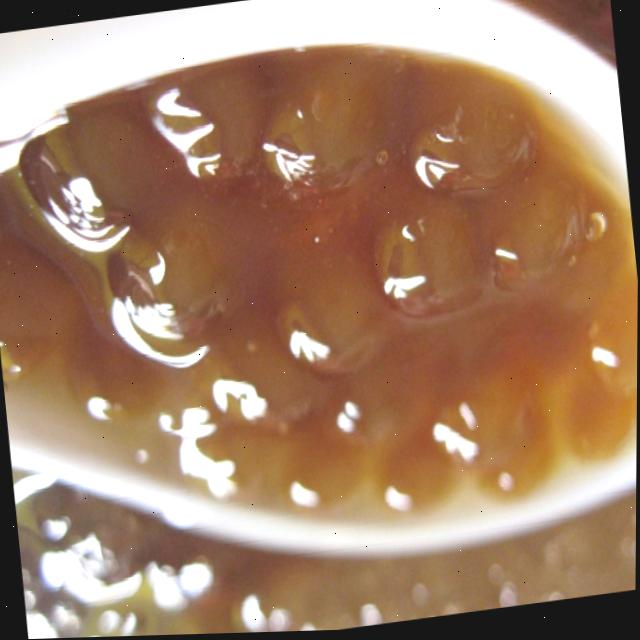蛋糕甜品: (0, 0, 640, 623)
